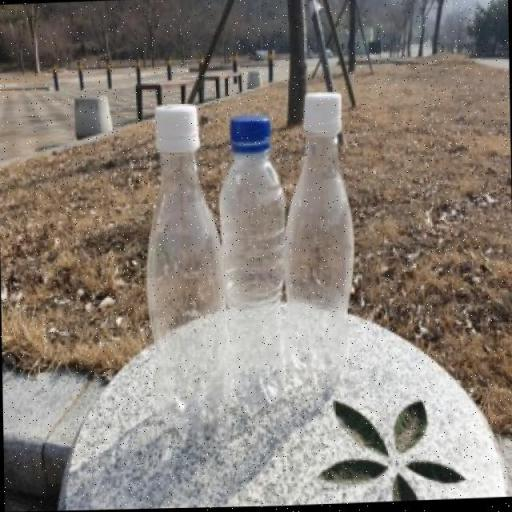plastic: (144, 102, 222, 432), (283, 90, 355, 396), (218, 117, 290, 417)
